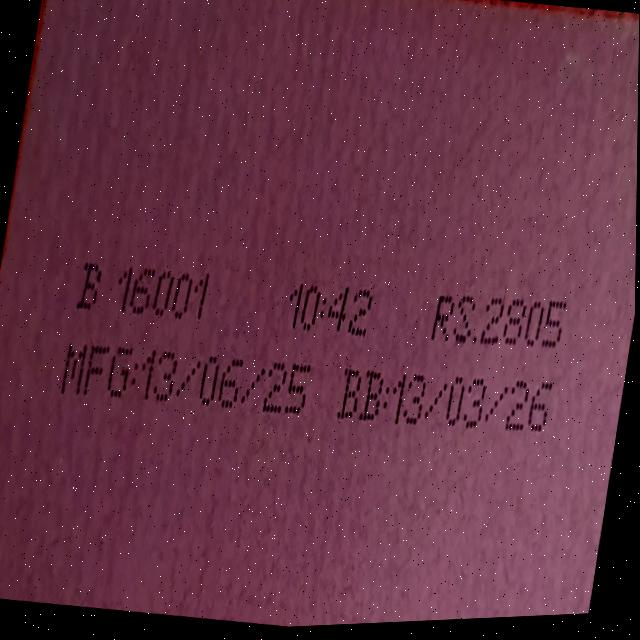BB: (329, 343, 561, 478)
Batch: (70, 224, 229, 340)
MFG: (54, 323, 318, 445)
RS: (424, 268, 577, 372)
TimeStamp: (280, 254, 393, 344)
